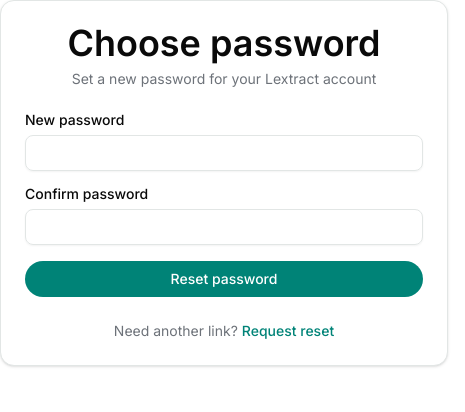
Test case: ResetPasswordForm › requires matching passwords
Type "new-password-123" into the password field labelled "New password" at (224, 153), box [25,135,423,171]
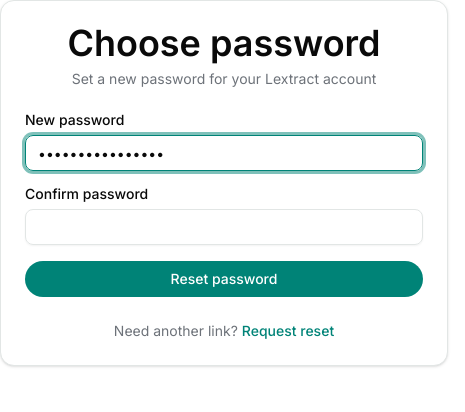
Type "different-password" into the password field labelled "Confirm password" at (224, 227), box [25,209,423,245]
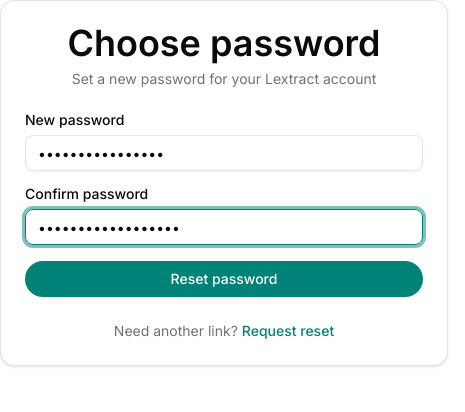
Click the button "Reset password" at (224, 279), box [25,261,423,297]
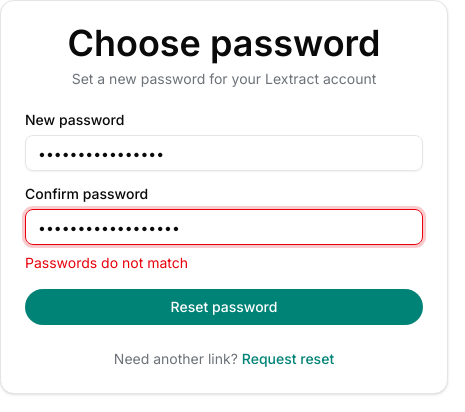
Now the message reads "Passwords do not match", box [25,254,188,271]
